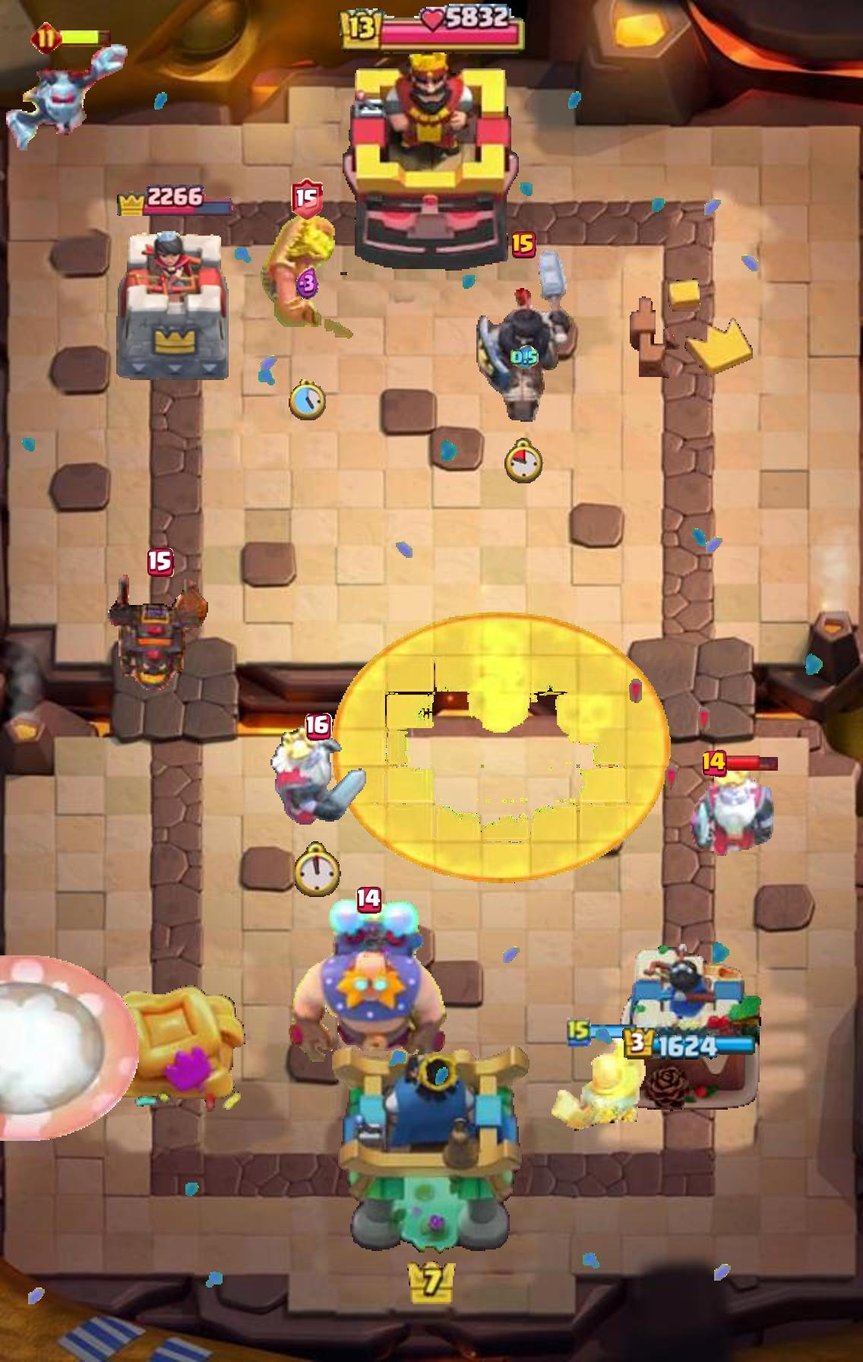bar: (58, 28, 113, 48), (724, 753, 779, 773)
bar-level: (291, 178, 323, 220), (30, 22, 62, 54), (147, 548, 175, 577), (305, 713, 333, 742), (356, 886, 383, 914), (702, 749, 728, 778), (512, 231, 536, 259)
